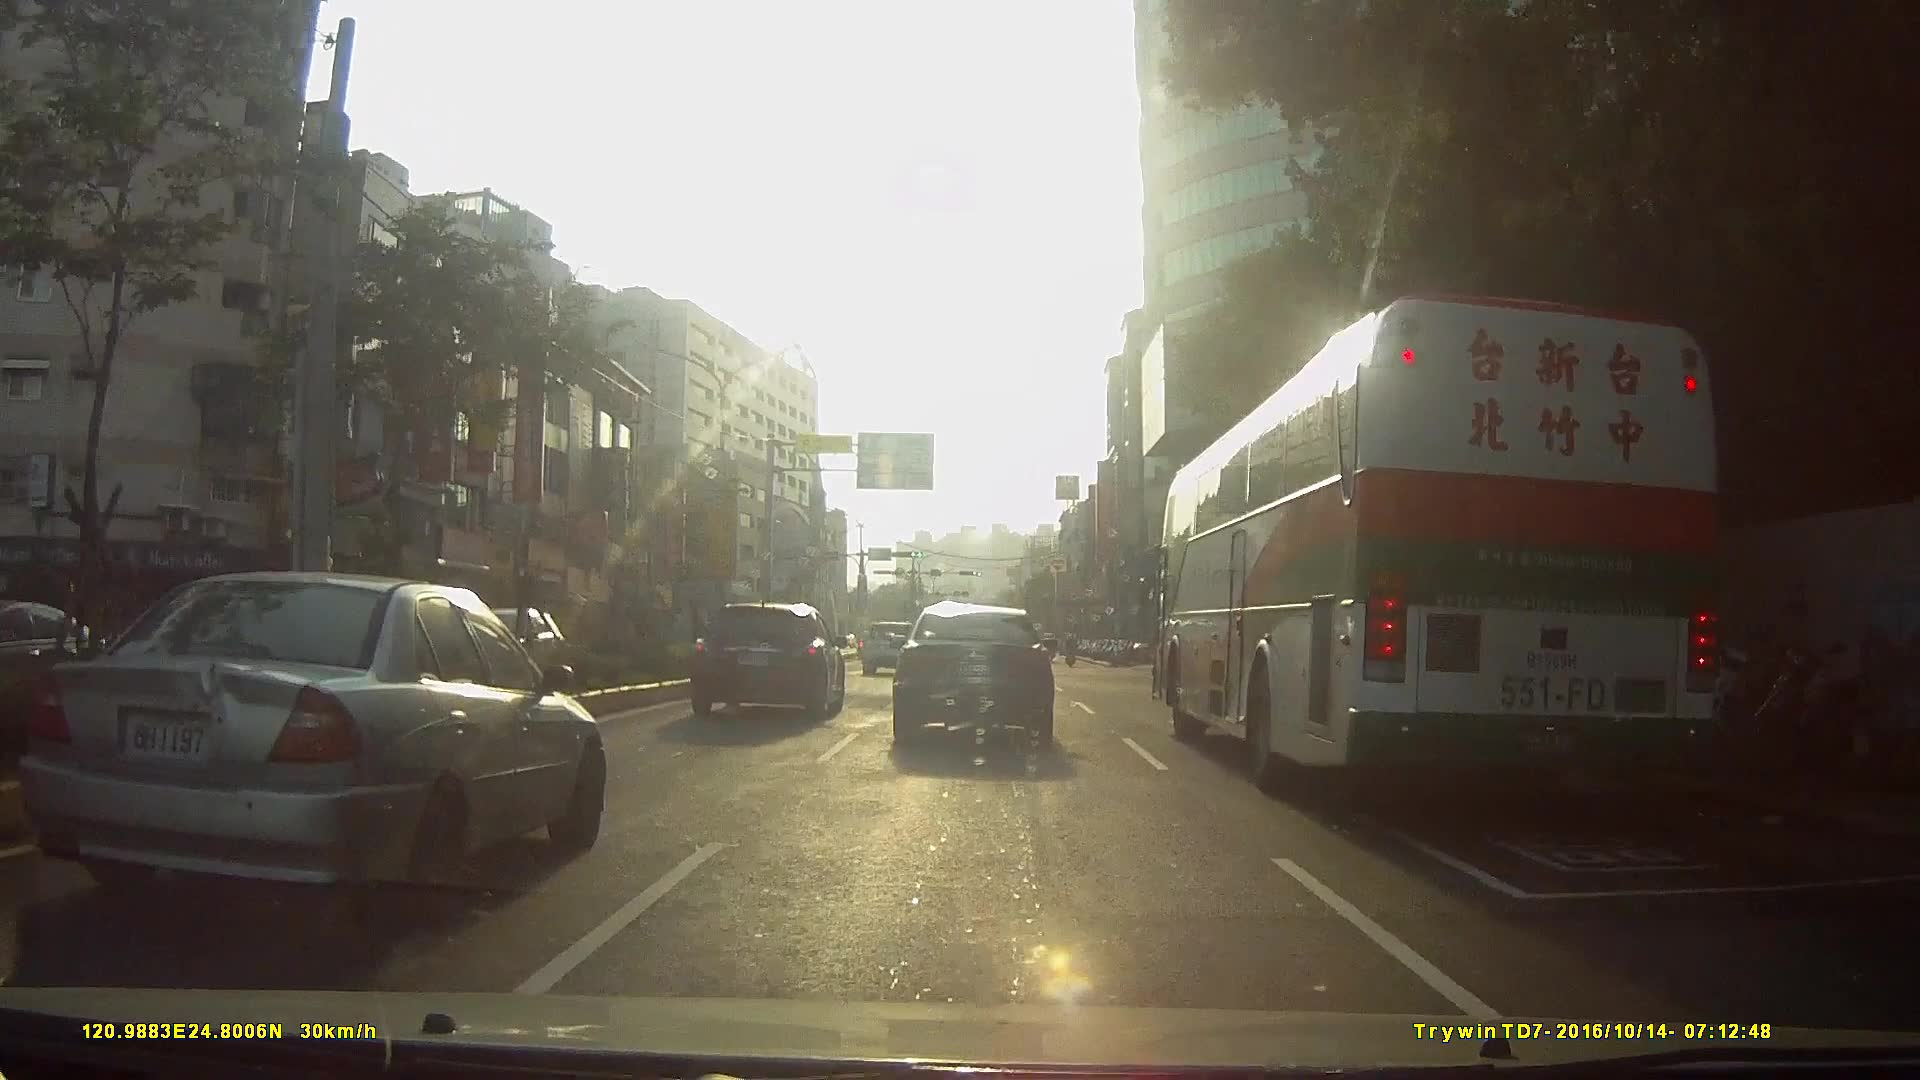vehicle: (1160, 261, 1780, 818), (7, 570, 605, 934), (889, 604, 1055, 753), (688, 605, 847, 724), (4, 604, 95, 729), (858, 625, 918, 683)
